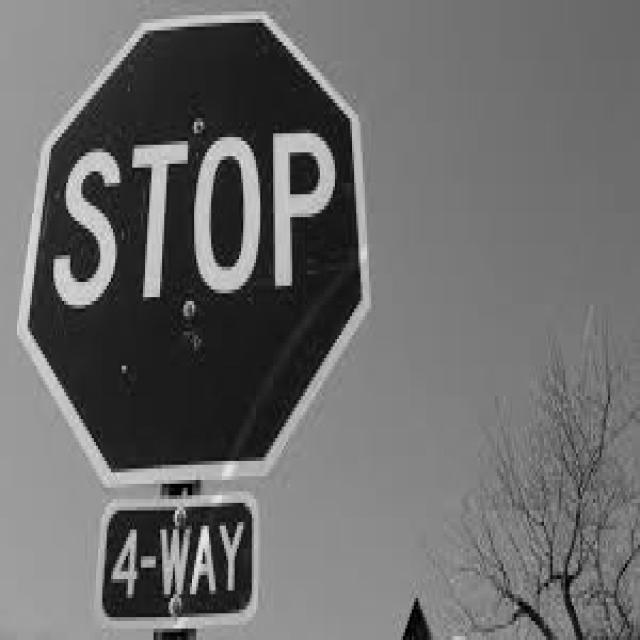stop sign: (21, 21, 376, 480)
